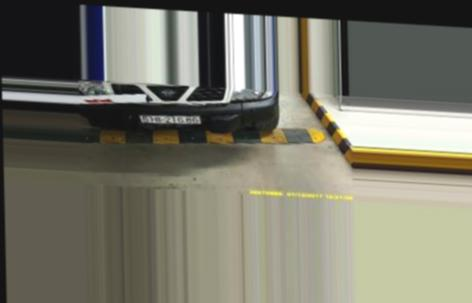License_Plate: (139, 112, 202, 127)
